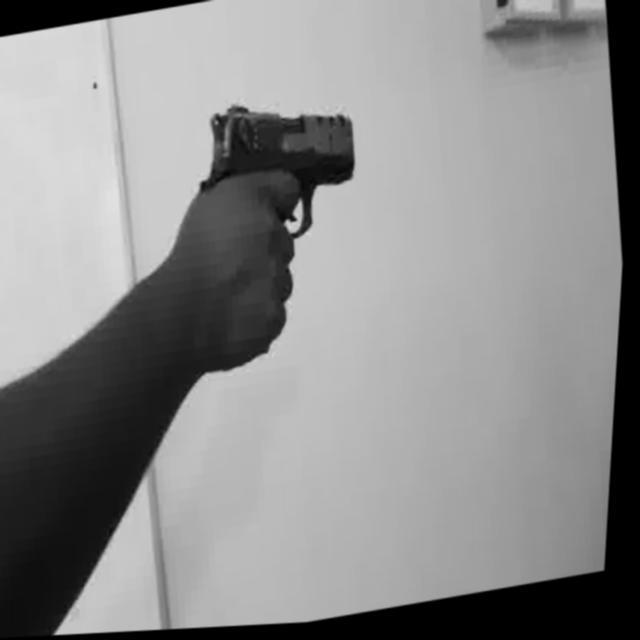weapon: (186, 83, 371, 264)
